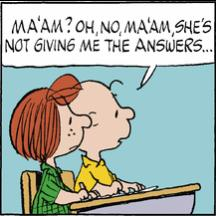charlie: (67, 76, 149, 200)
